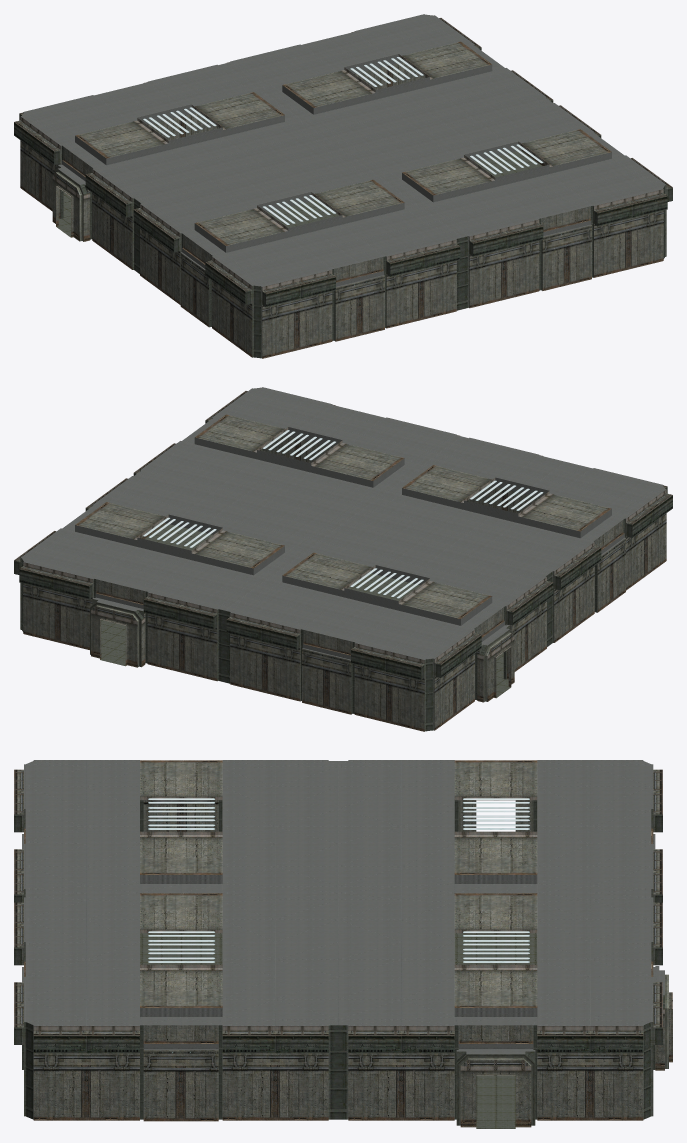
Rendered from poi_all_impl_bunker_crimelord_retreat_s01_r19_anteroom_mesh_r19.fbx.
3 renders of one model, top to bottom at view 1: azimuth 30°, elevation 25°; view 2: azimuth 150°, elevation 25°; view 3: azimuth 270°, elevation 25°, orthographic. The views are drawn at different scales.
Visible parts, largest first — view 1: mesh_node; view 2: mesh_node; view 3: mesh_node.
Part boxes in pixels (x1,y1,x2,y2): mesh_node: (14, 14, 672, 358); mesh_node: (14, 387, 672, 731); mesh_node: (14, 760, 672, 1128).
Size of the model in its own units: 34 by 6 by 33.5.
